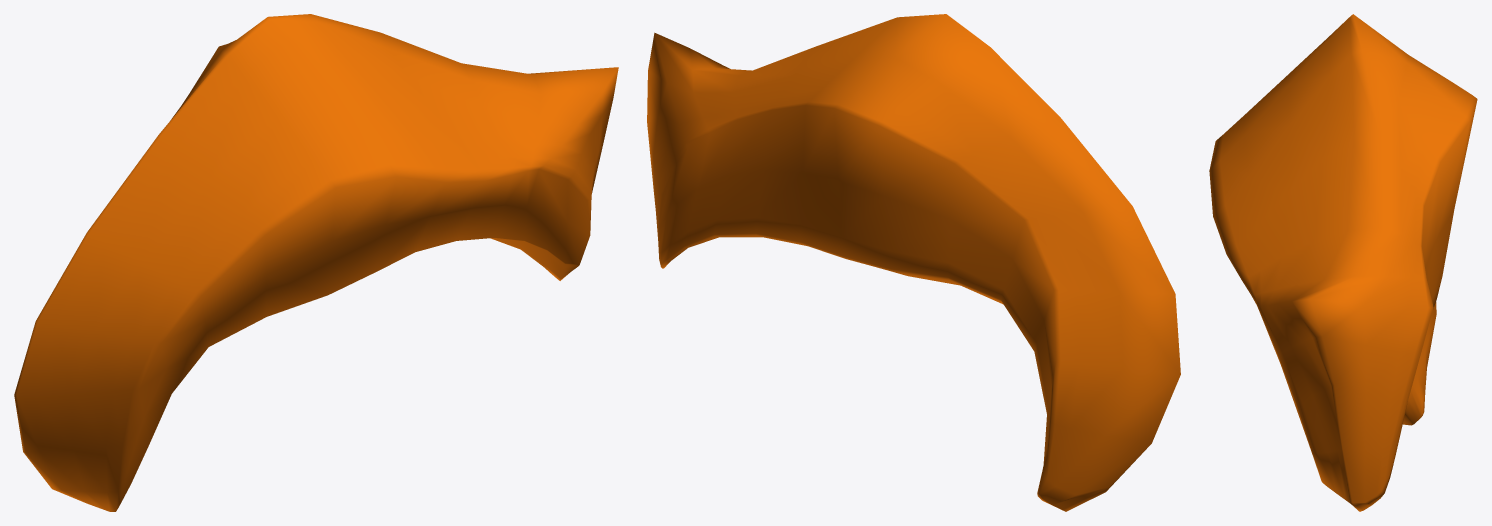
Rendered from vox.fbx.
The picture shows the model from 3 angles, left to right: view 1: azimuth 30°, elevation 25°; view 2: azimuth 150°, elevation 25°; view 3: azimuth 270°, elevation 25°; orthographic projection. The views are drawn at different scales.
Visible parts, largest first — view 1: Cube; view 2: Cube; view 3: Cube.
Part boxes in pixels (x1,y1,x2,y2): Cube: (14, 14, 618, 511); Cube: (647, 14, 1180, 511); Cube: (1209, 14, 1477, 511).
Size of the model in its own units: 107 by 82.38 by 41.49.
